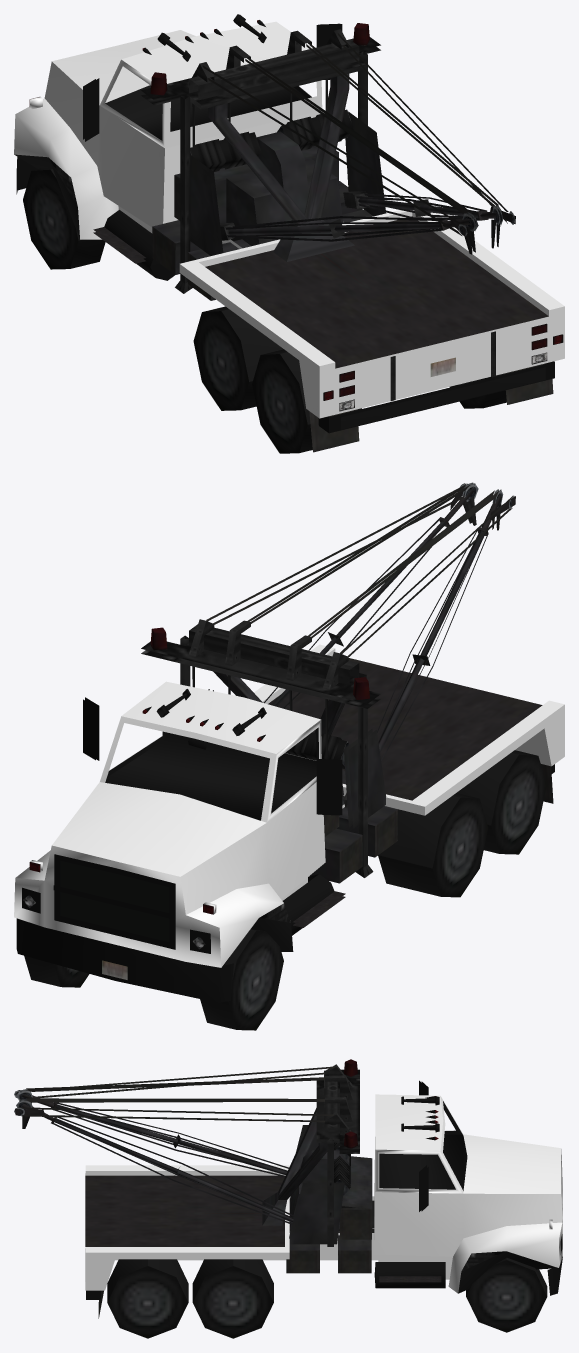
File: towtruck4.glb
The picture shows the model from 3 angles, top to bottom: view 1: azimuth 30°, elevation 25°; view 2: azimuth 150°, elevation 25°; view 3: azimuth 270°, elevation 25°; orthographic projection. The views are drawn at different scales.
Parts seen in each view (by area): view 1: chassis; view 2: chassis; view 3: chassis.
Boxes of the visible parts, x1=… form: chassis: x1=14, y1=14, x2=564, y2=453; chassis: x1=14, y1=482, x2=564, y2=1030; chassis: x1=14, y1=1059, x2=562, y2=1338.
Size of the model in its own units: 3.02 by 3.21 by 7.67.
Materials: 5 (5 with a texture image).
